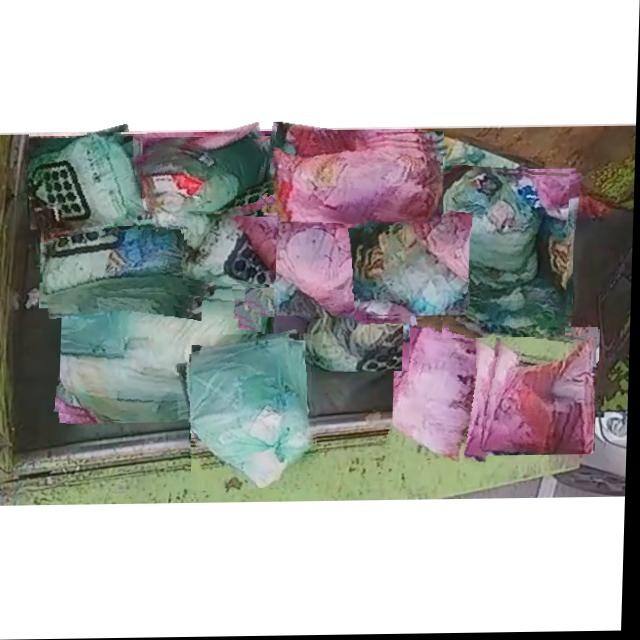general_trashbag: (63, 295, 266, 423), (449, 169, 568, 338), (194, 336, 319, 488), (45, 206, 211, 294), (142, 139, 264, 228), (29, 134, 146, 226), (361, 221, 470, 316), (310, 295, 412, 372), (186, 213, 277, 284), (248, 289, 276, 308)
other_trashbag: (237, 195, 422, 313), (395, 299, 511, 461), (272, 143, 443, 227), (485, 336, 597, 456)
